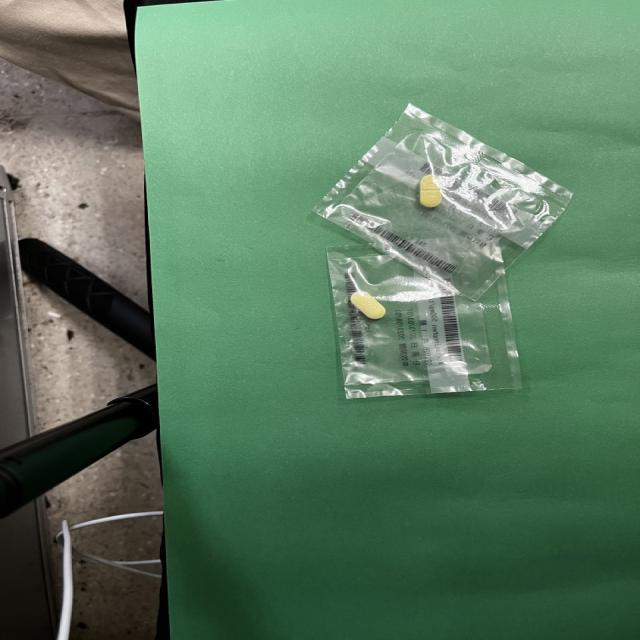Other Objects: (314, 104, 571, 398)
